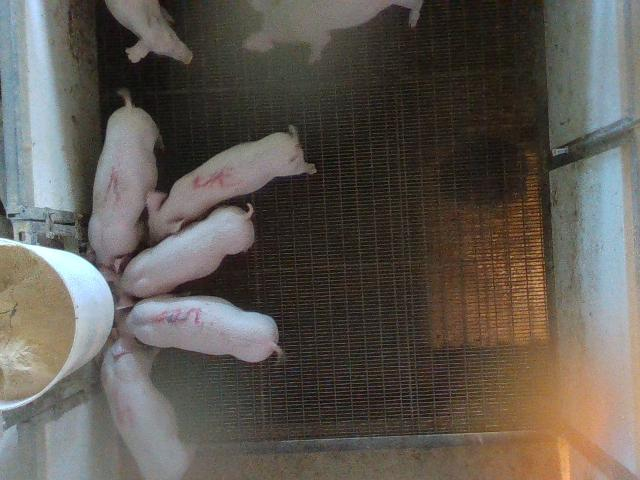pig-1: (89, 89, 161, 271)
pig-3: (109, 295, 281, 362)
pig-4: (101, 351, 190, 478)
pig-5: (146, 125, 315, 242)
